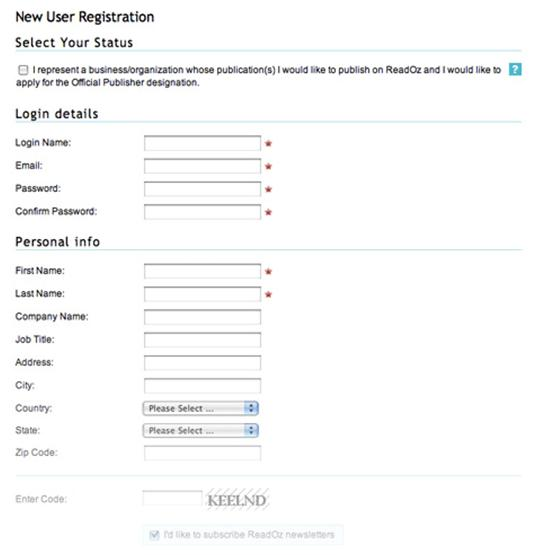dropdown: (137, 394, 265, 418), (137, 420, 267, 441)
textbox: (136, 259, 280, 283), (137, 306, 276, 329)
